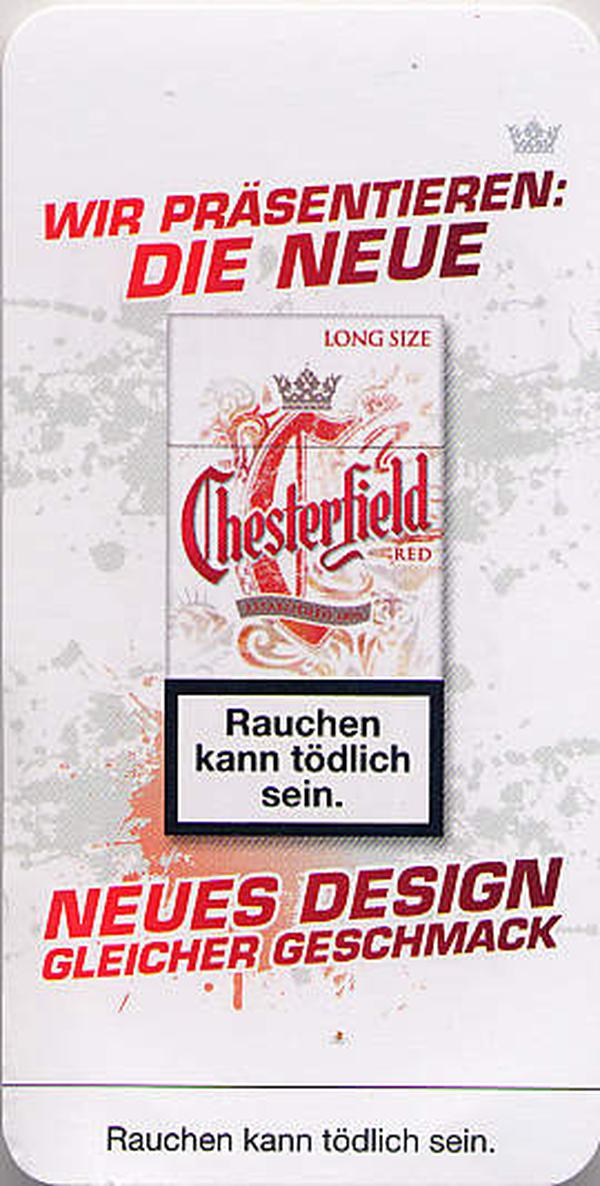chesterfield_red: (171, 321, 441, 844)
